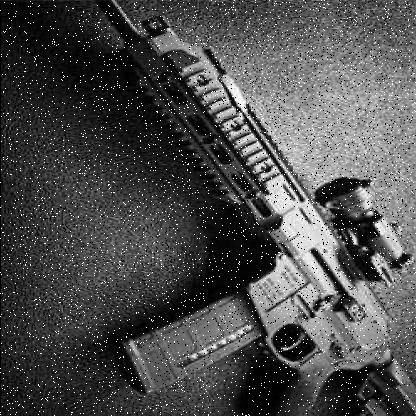rifle: (75, 0, 416, 415)
